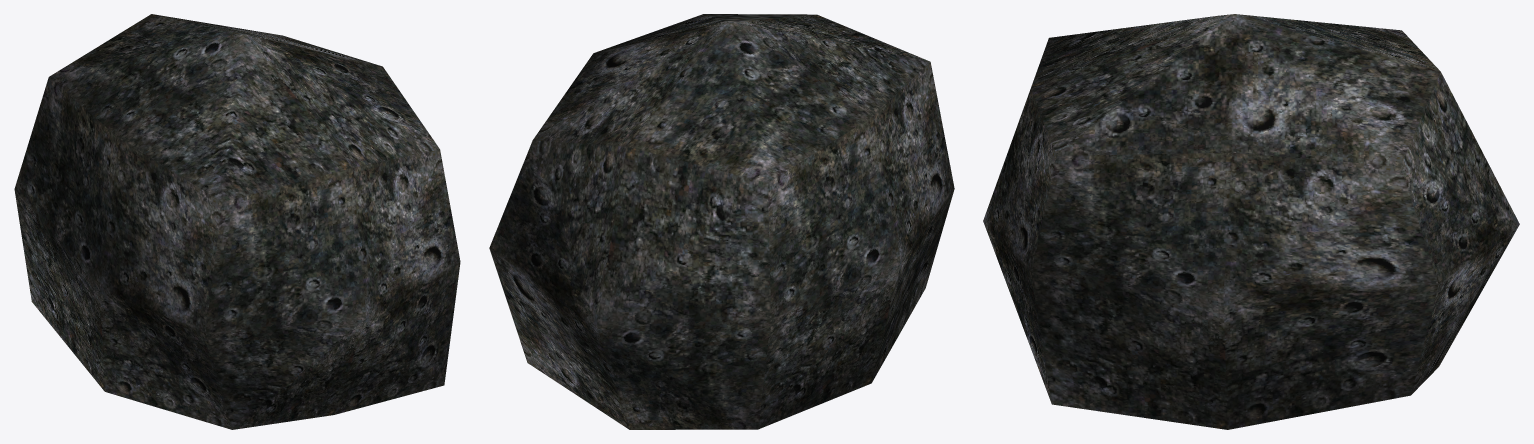
Rendered from asteroid_iron_small_s01_l2.fbx.
3 renders of one model, left to right at view 1: azimuth 30°, elevation 25°; view 2: azimuth 150°, elevation 25°; view 3: azimuth 270°, elevation 25°, orthographic. The views are drawn at different scales.
Visible parts, largest first — view 1: mesh_node; view 2: mesh_node; view 3: mesh_node.
Part boxes in pixels (x1,y1,x2,y2): mesh_node: (14, 14, 460, 429); mesh_node: (489, 14, 954, 429); mesh_node: (983, 14, 1519, 429).
Size of the model in its own units: 20.67 by 25.26 by 30.27.
